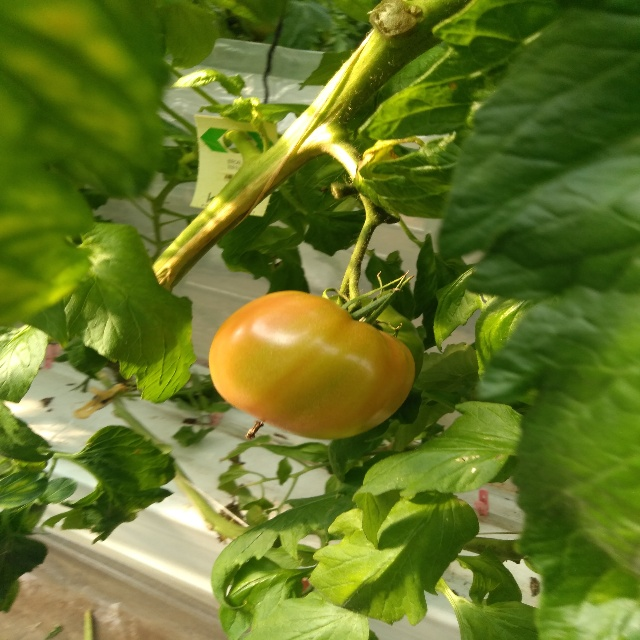b_green: (324, 295, 424, 383)
b_half_ripened: (208, 290, 417, 440)
